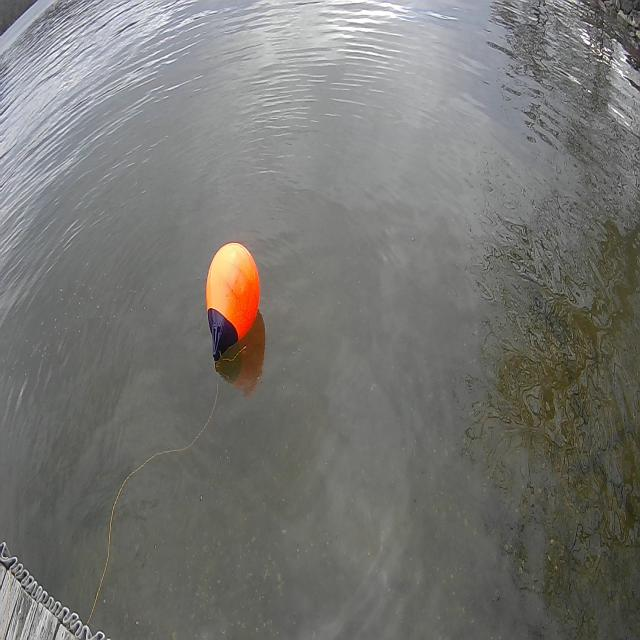Buoy: (201, 235, 263, 354)
